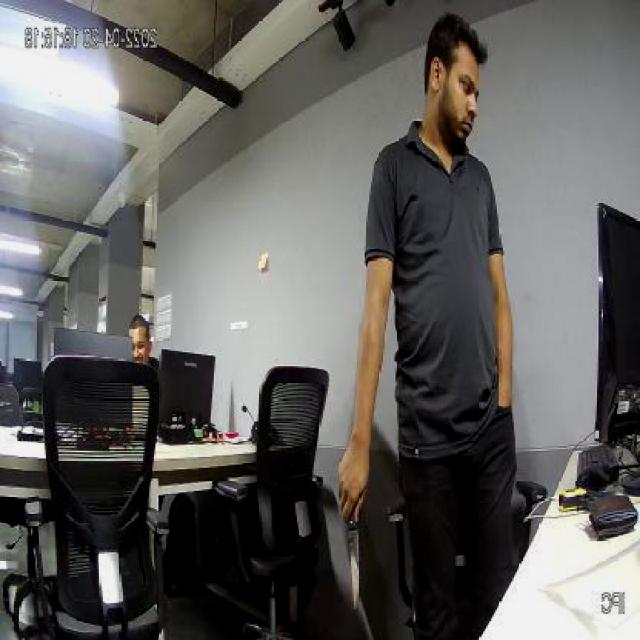knife: (340, 508, 365, 622)
